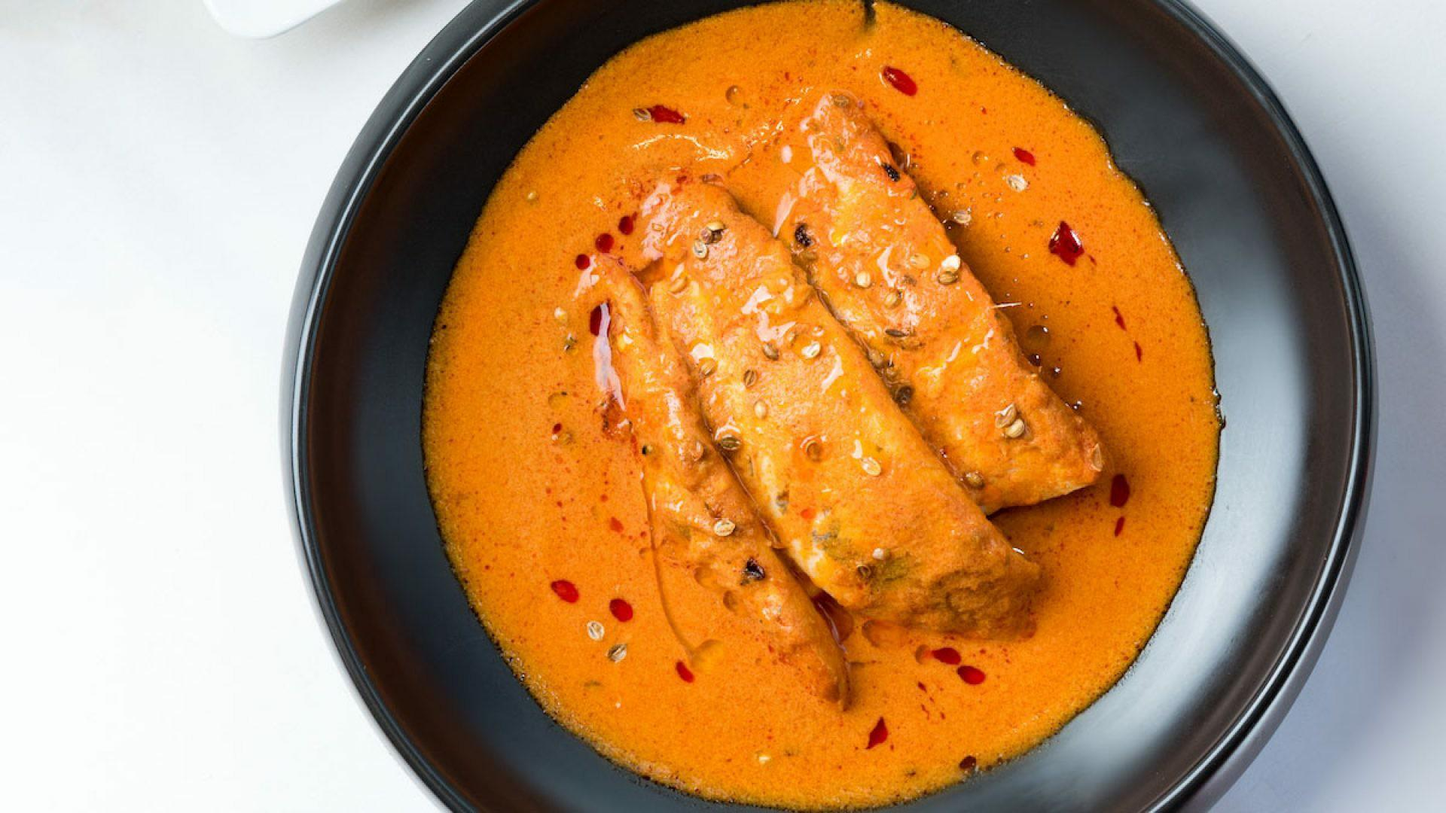FishCurry: (425, 0, 1218, 803)
